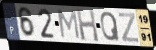2: (37, 7, 56, 40)
6: (17, 7, 37, 39)
H: (75, 8, 101, 44)
M: (56, 9, 81, 41)
Q: (100, 11, 121, 43)
Z: (118, 12, 140, 44)
